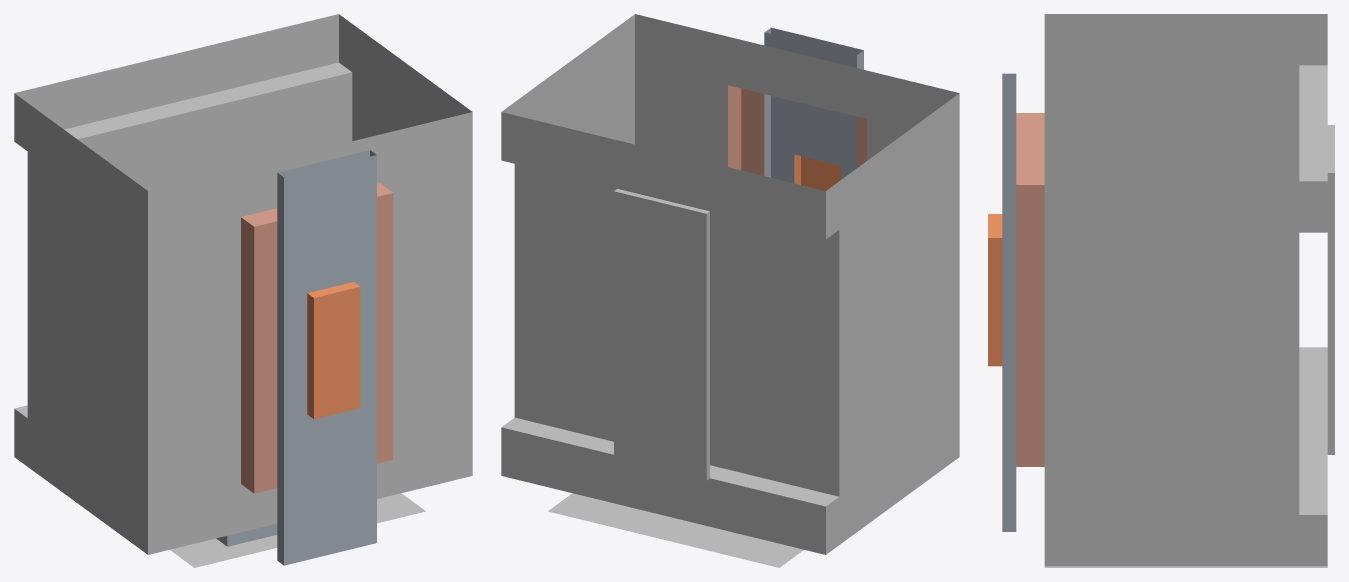
File: cell_32.obj
3 views of the same model, side by side, from view 1: azimuth 30°, elevation 25°; view 2: azimuth 150°, elevation 25°; view 3: azimuth 270°, elevation 25° (orthographic). The views are drawn at different scales.
Bounding box in the file's own units: 0.875 × 1 × 0.7656.
